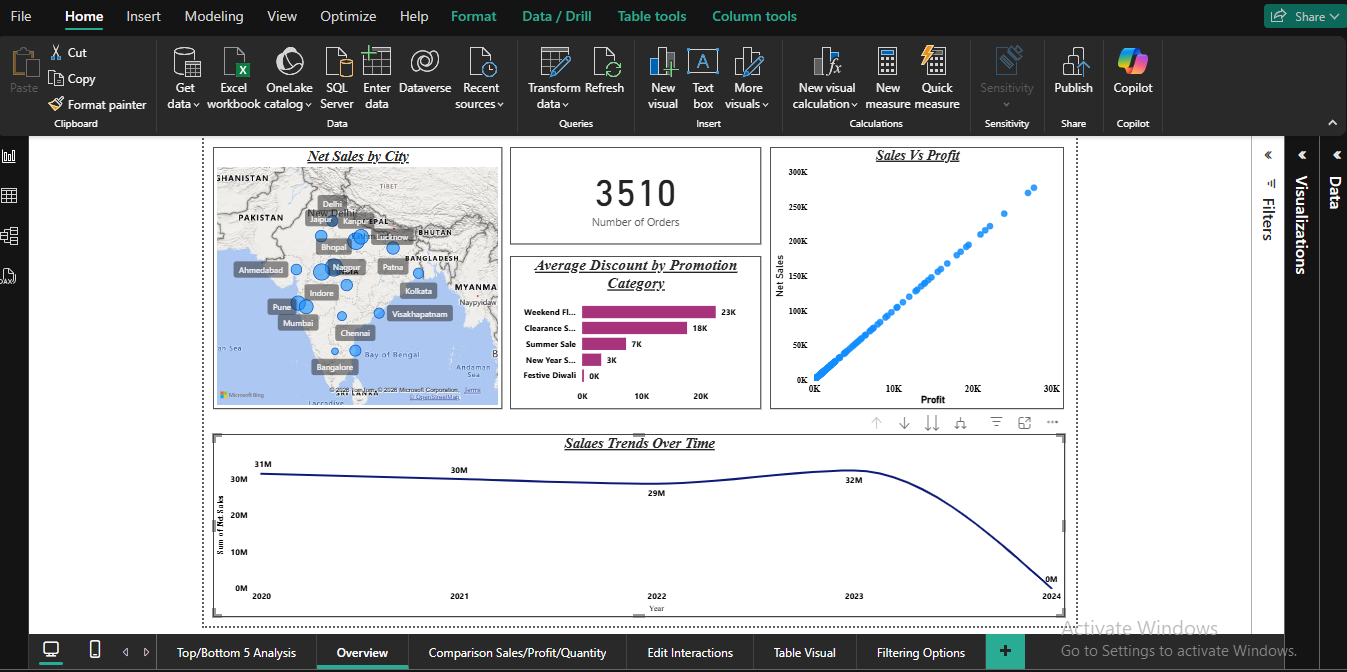

What the dashboard file says about the page in this screenshot:
{"tool":"powerbi","page":{"name":"Overview","canvas":[1280,720],"ordinal":1},"visuals":[{"type":"lineChart","title":"Salaes Trends Over Time","fields":{"Y":["Sum(Fact Table.Net Sales)"],"Category":["Fact Table.Date (dd/mm/yyyy).Variation.Date Hierarchy.Year"]},"box":[13.2,415.8,1251.9,290.9],"z":0},{"type":"scatterChart","title":"Sales Vs Profit","fields":{"X":["Fact Table.Profit"],"Y":["Fact Table.Net Sales"]},"box":[831.7,16.2,432,385],"z":1000},{"type":"barChart","title":"Average Discount by Promotion Category","fields":{"Y":["Avg(Fact Table.Discount)"],"Category":["Dim Promotion.Promotion Name"]},"box":[449.6,176.3,368.8,224.8],"z":2000},{"type":"map","fields":{"Category":["Dim Customers.City"],"Size":["Sum(Fact Table.Net Sales)"]},"box":[13.2,16.2,424.7,385],"z":3000},{"type":"card","fields":{"Values":["CountNonNull(Fact Table.Order ID)"]},"box":[449.6,16.2,368.8,142.5],"z":4000}]}

Visuals, with their boxes on the page's 1280x720 design canvas (x1, y1, x2, y2). These are canvas units, not pixel positions in the 1347x672 screenshot, which may show the page scaled, cropped or inside an application window:
"Salaes Trends Over Time" lineChart: BBox(13, 416, 1265, 707)
"Sales Vs Profit" scatterChart: BBox(832, 16, 1264, 401)
"Average Discount by Promotion Category" barChart: BBox(450, 176, 818, 401)
map - Dim Customers.City x Sum(Fact Table.Net Sales): BBox(13, 16, 438, 401)
card - CountNonNull(Fact Table.Order ID): BBox(450, 16, 818, 159)
